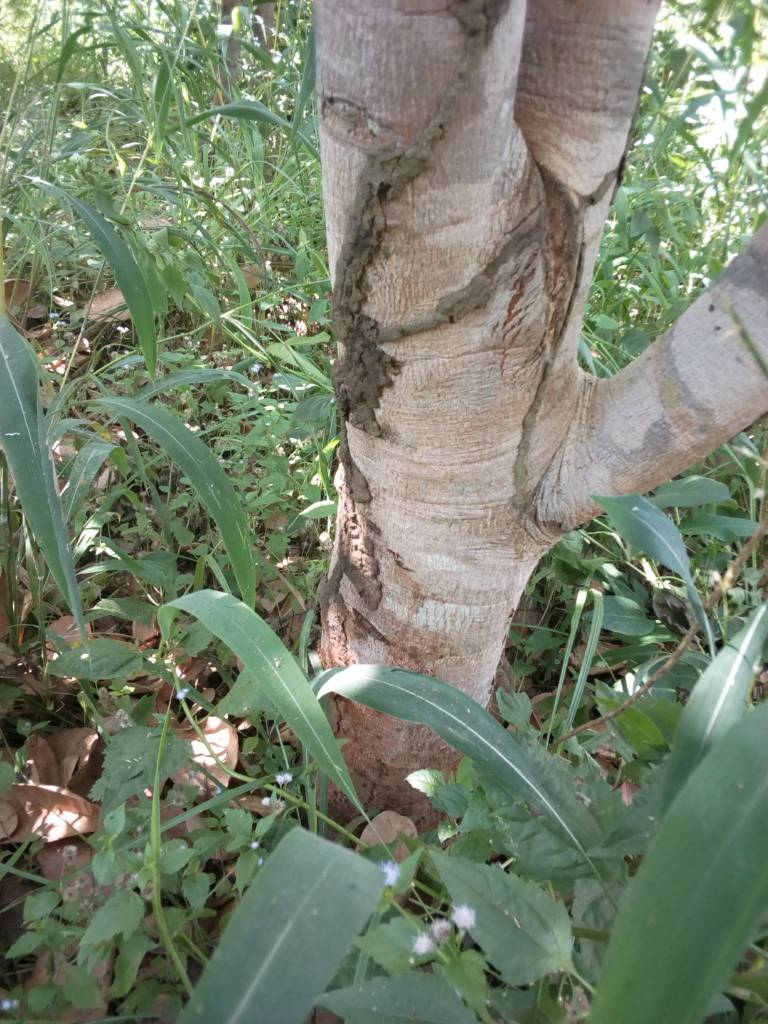Termites: (330, 138, 397, 596), (404, 5, 504, 172), (411, 200, 532, 333), (515, 374, 546, 522)
